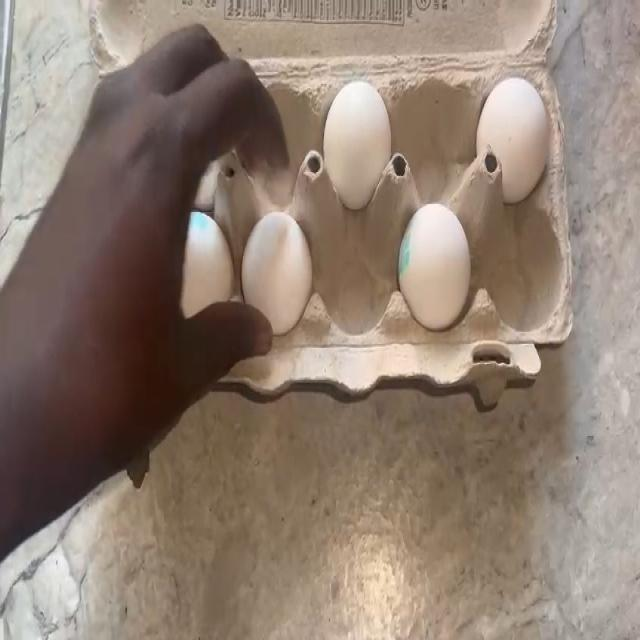Egg: (243, 212, 317, 326), (400, 214, 474, 324), (322, 84, 391, 178), (480, 74, 546, 166), (191, 224, 223, 289)
